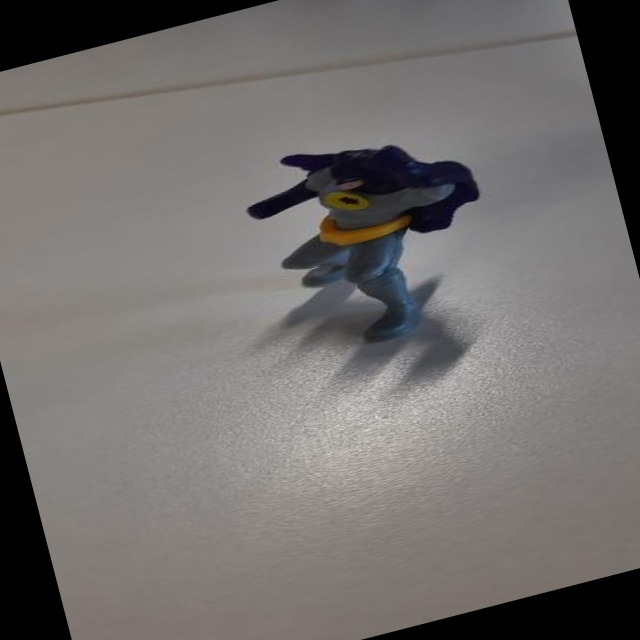Batman: (195, 93, 547, 409)
